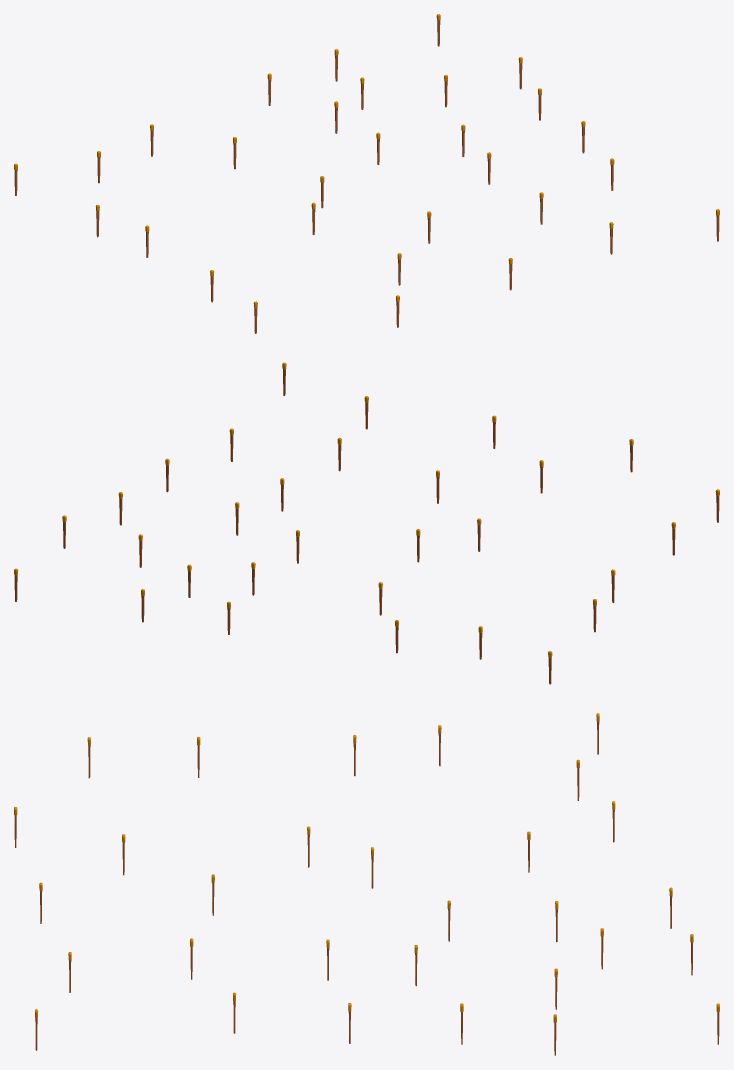
Rendered from LightStands.fbx.
3 views of the same model, one above another, from view 1: azimuth 30°, elevation 25°; view 2: azimuth 150°, elevation 25°; view 3: azimuth 270°, elevation 25° (orthographic). The views are drawn at different scales.
Bounding box in the file's own units: 2.34 × 0.145 × 2.3.
